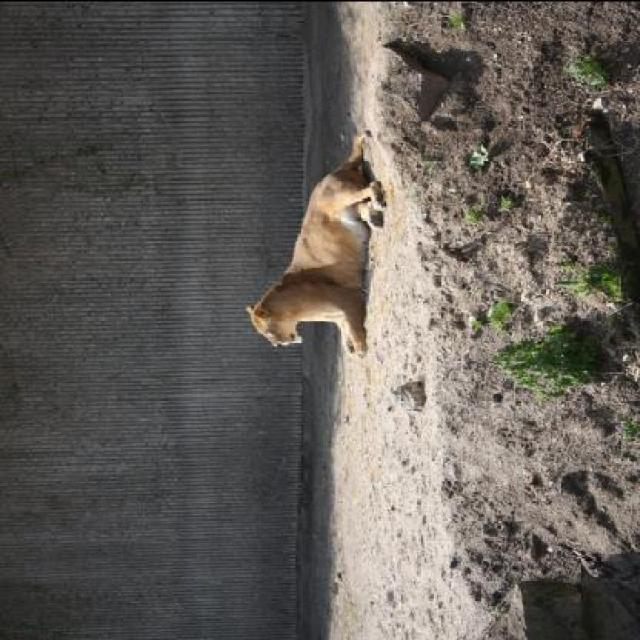Lion: (231, 106, 391, 371)
